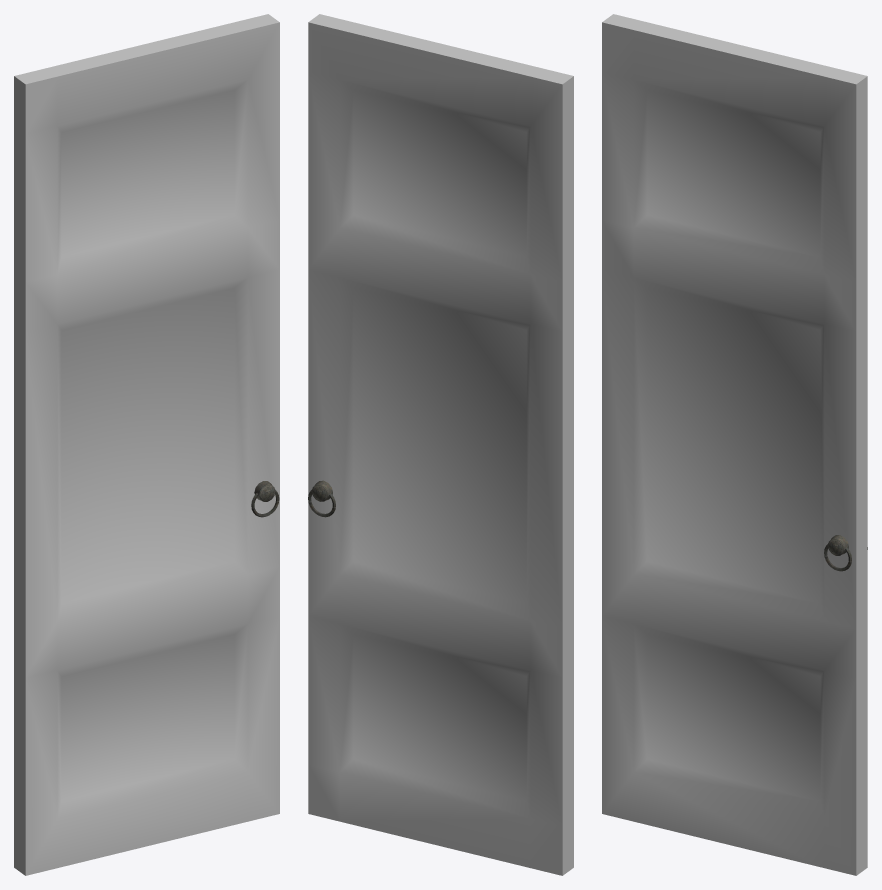
The model's file is DoorR.fbx.
3 renders of one model, left to right at view 1: azimuth 30°, elevation 25°; view 2: azimuth 150°, elevation 25°; view 3: azimuth 330°, elevation 25°, orthographic.
Parts seen in each view (by area): view 1: doorRight; view 2: doorRight; view 3: doorRight.
Boxes of the visible parts, <box> form: doorRight: <box>14,14,279,875</box>; doorRight: <box>308,14,573,875</box>; doorRight: <box>602,14,867,875</box>.
Size of the model in its own units: 99.4 by 296 by 14.02.
